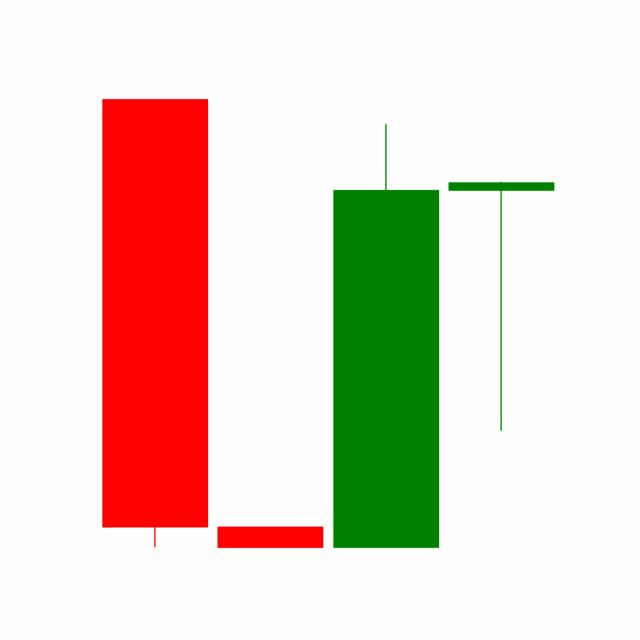Hammer: (443, 178, 559, 433)
